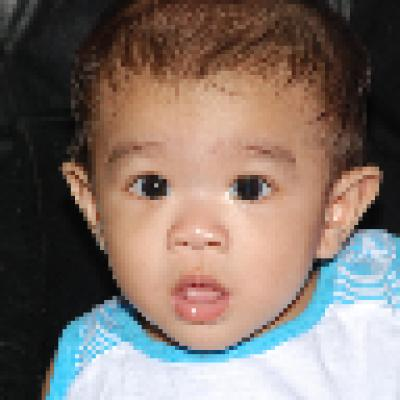surprise: (89, 65, 332, 348)
